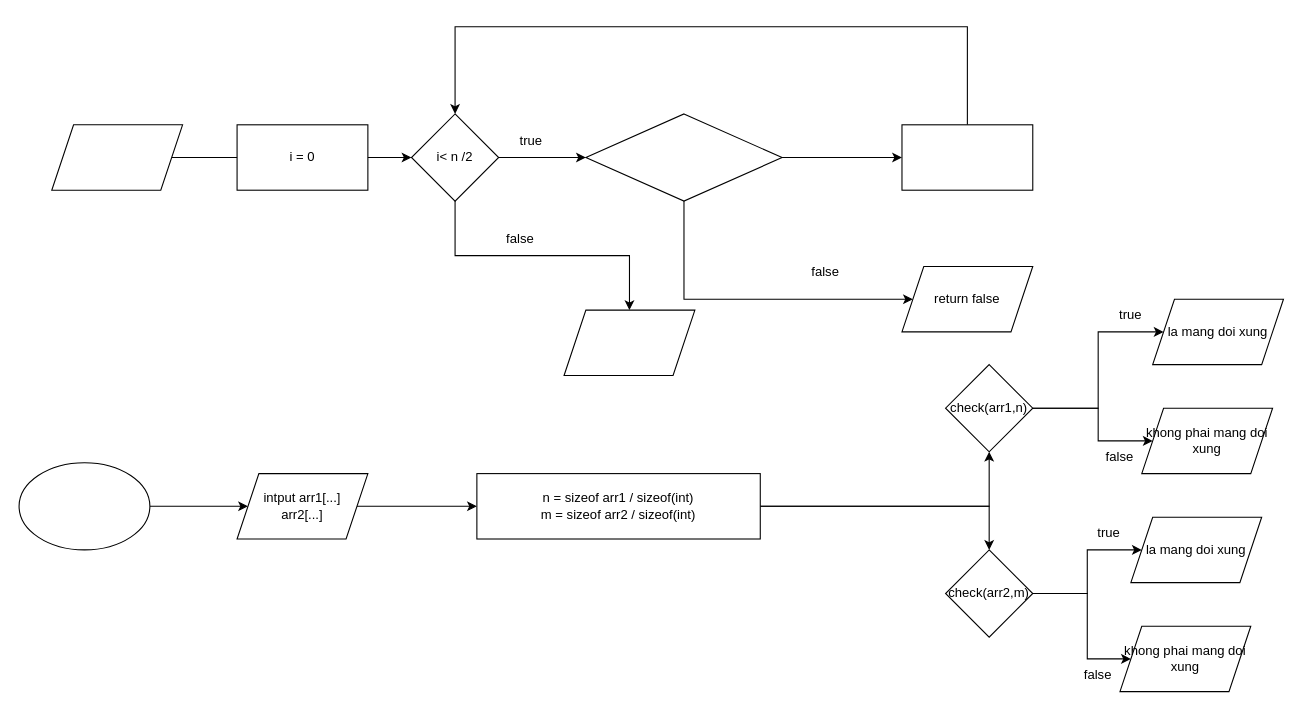
Some shapes in this 1303 by 711 pixel diagram are drawn without their labels. The centre of each missing label's shape, as x and y in pixels:
"a[i] != a[n-i-1]" goes at (683,157).
"i++" goes at (967,157).
"return true" goes at (629,342).
"start" goes at (84,506).
"symmetry(arr,n)" goes at (117,157).
